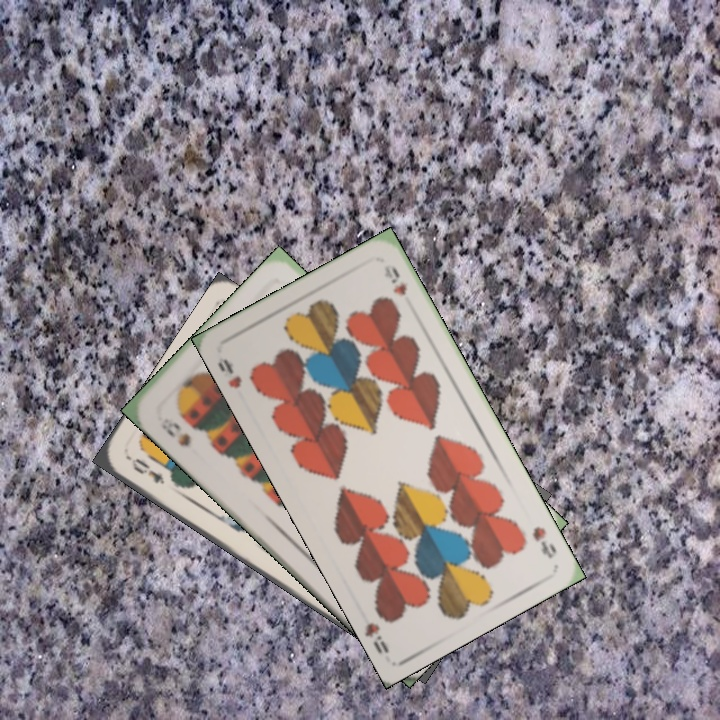EO: (124, 452, 167, 487)
H9: (528, 522, 559, 562), (213, 354, 245, 391)
S8: (156, 418, 194, 450)
